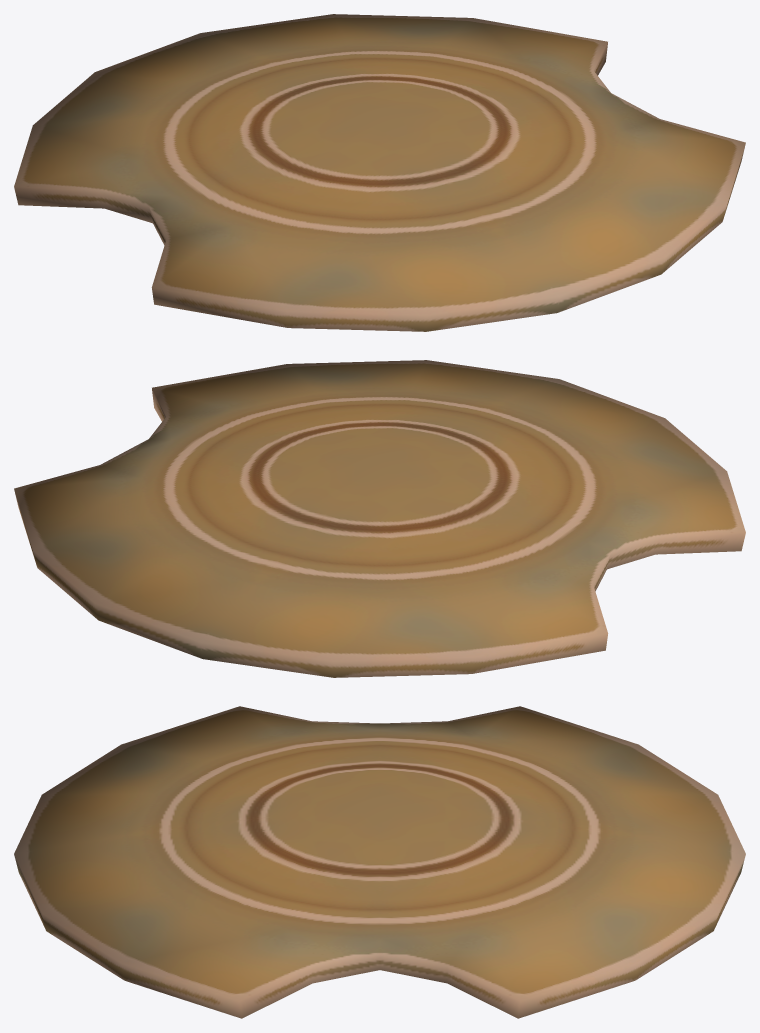
File: P_Shield.FBX
The picture shows the model from 3 angles, top to bottom: view 1: azimuth 30°, elevation 25°; view 2: azimuth 150°, elevation 25°; view 3: azimuth 270°, elevation 25°; orthographic projection.
Visible parts, largest first — view 1: P_Shield; view 2: P_Shield; view 3: P_Shield.
Boxes of the visible parts, x1,y1,x2,y2 form: P_Shield: (14,14,745,331); P_Shield: (14,360,745,677); P_Shield: (14,706,745,1018).
Bounding box in the file's own units: 92.34 × 10.12 × 96.75.
Materials: 1 (1 with a texture image).
